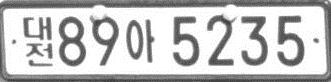2: (206, 14, 234, 67)
3: (241, 15, 268, 66)
5: (277, 14, 305, 66), (173, 15, 200, 67)
8: (57, 15, 87, 67)
9: (90, 14, 119, 66)
대전_V: (22, 15, 55, 68)
아: (125, 18, 155, 63)
